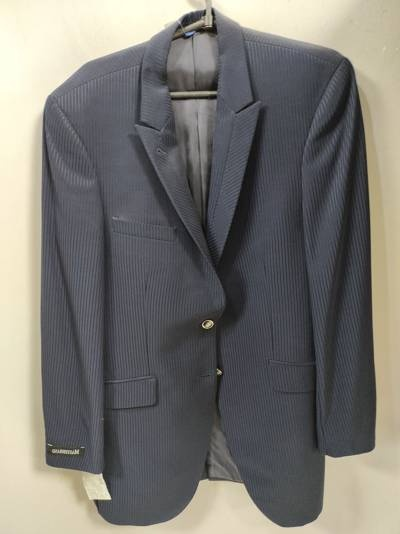Blazer: (26, 26, 385, 528)
